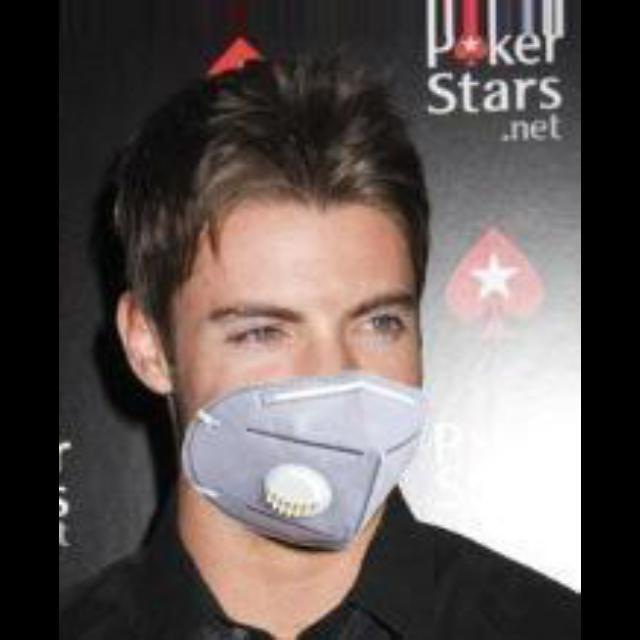suspicion: (122, 141, 430, 519)
